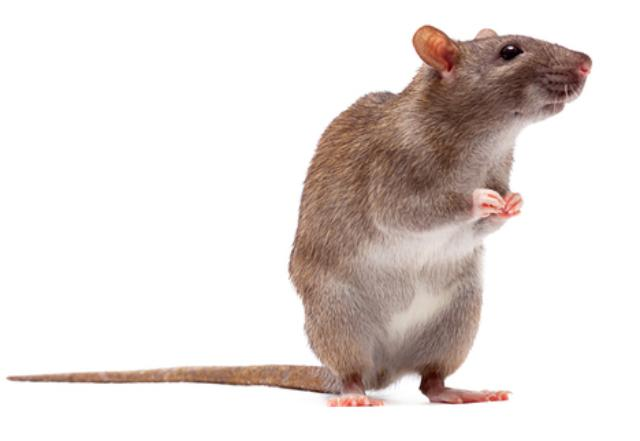rat: (167, 14, 599, 412)
